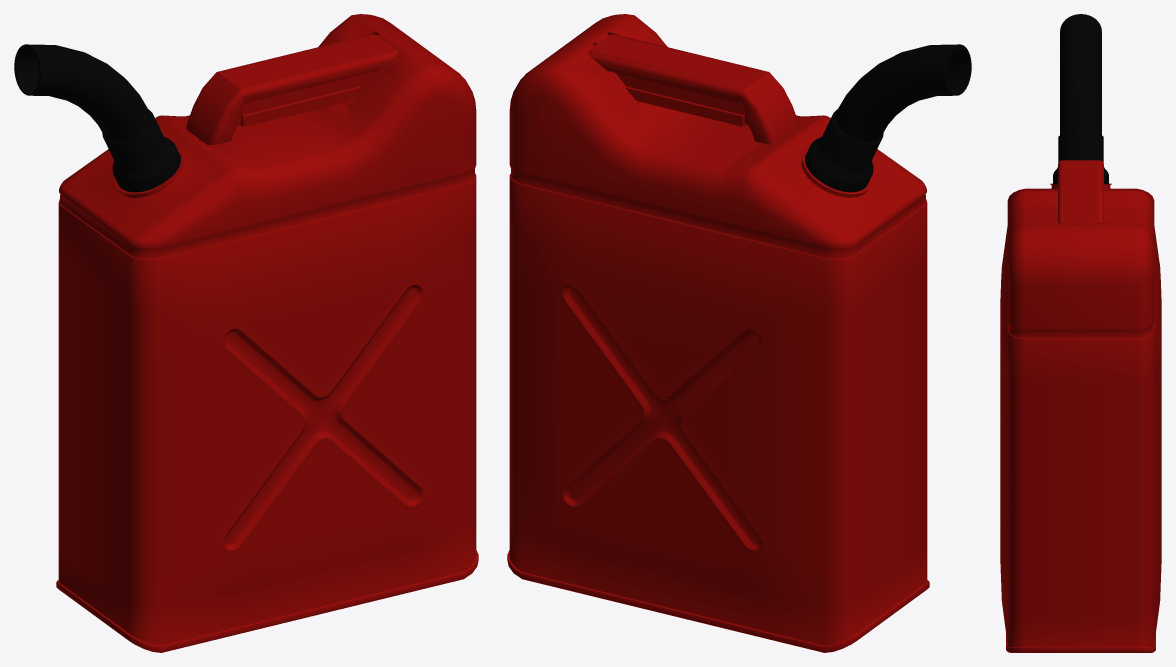
The model's file is Jerrycan.dae.
3 views of the same model, side by side, from view 1: azimuth 30°, elevation 25°; view 2: azimuth 150°, elevation 25°; view 3: azimuth 270°, elevation 25° (orthographic). The views are drawn at different scales.
Visible parts, largest first — view 1: Jerrycan; view 2: Jerrycan; view 3: Jerrycan.
Part boxes in pixels (x1,y1,x2,y2): Jerrycan: (14, 14, 478, 652); Jerrycan: (507, 14, 971, 652); Jerrycan: (1000, 14, 1161, 652).
Bounding box in the file's own units: 0.0532 × 0.0724 × 0.0219.
